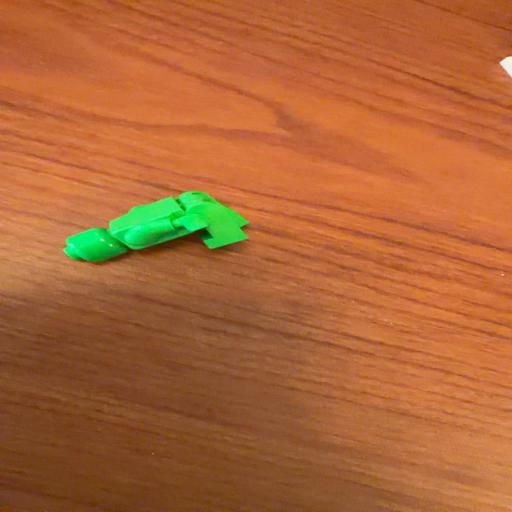UnoQ-minifig-detector: (64, 191, 248, 262)
